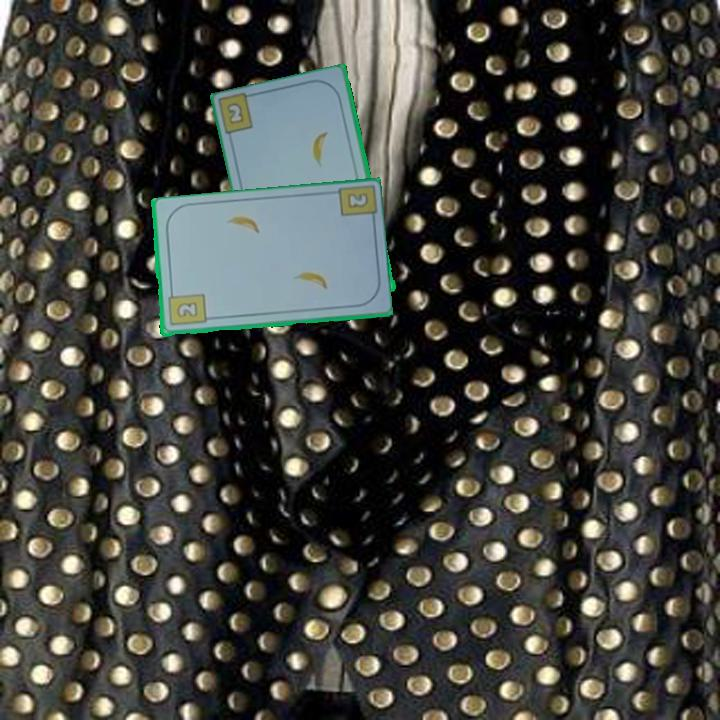2b: (164, 287, 208, 329), (223, 99, 247, 128), (343, 189, 371, 211)
